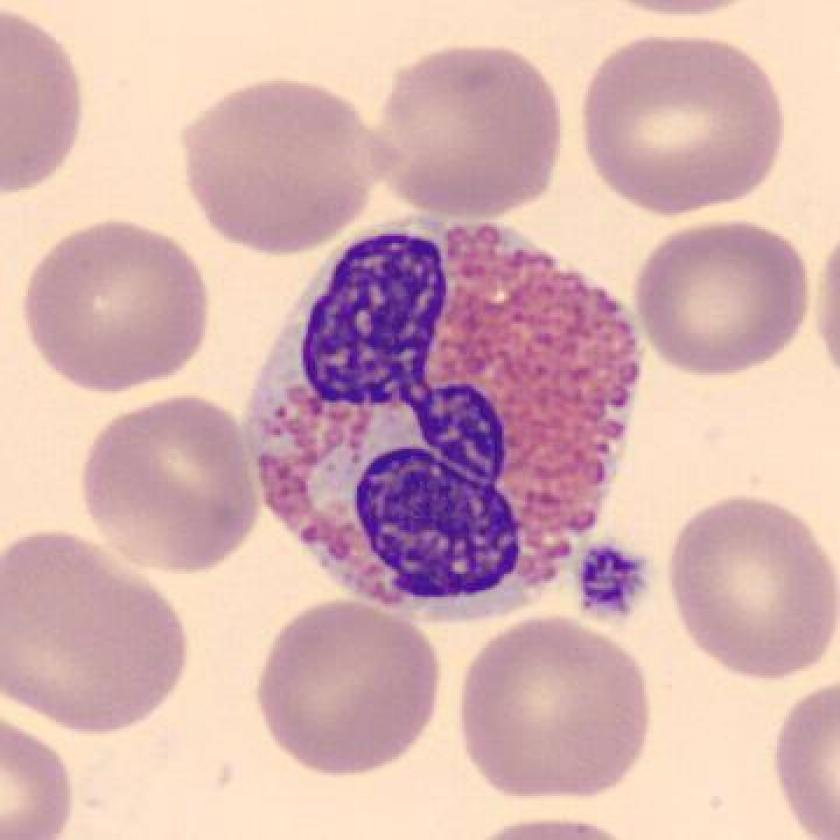eosinophil: (227, 202, 659, 635)
